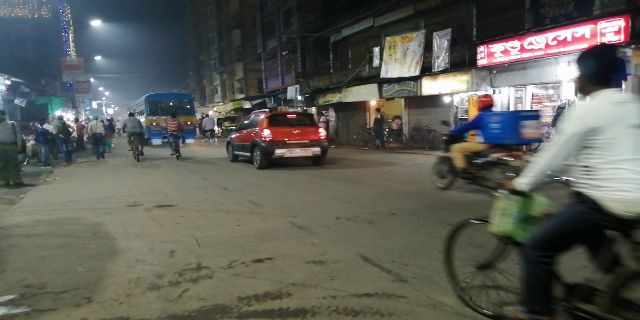Bus: (130, 91, 199, 145)
Car: (220, 110, 326, 167)
Cycle: (429, 166, 640, 320), (120, 108, 149, 165), (161, 114, 186, 166)
Motorbike: (423, 91, 533, 197)
